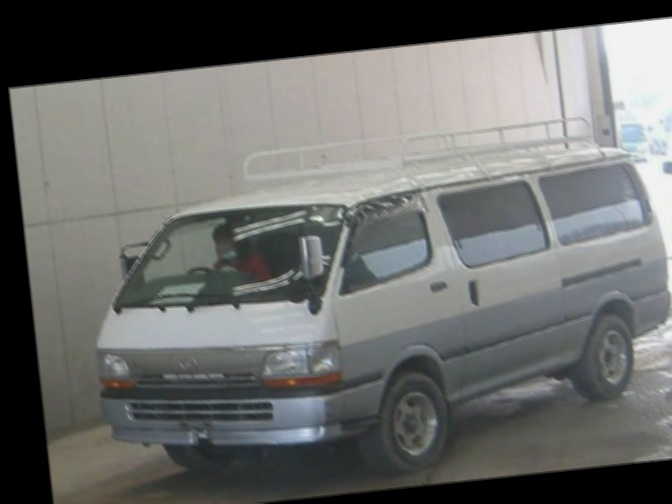van: (71, 107, 672, 498)
